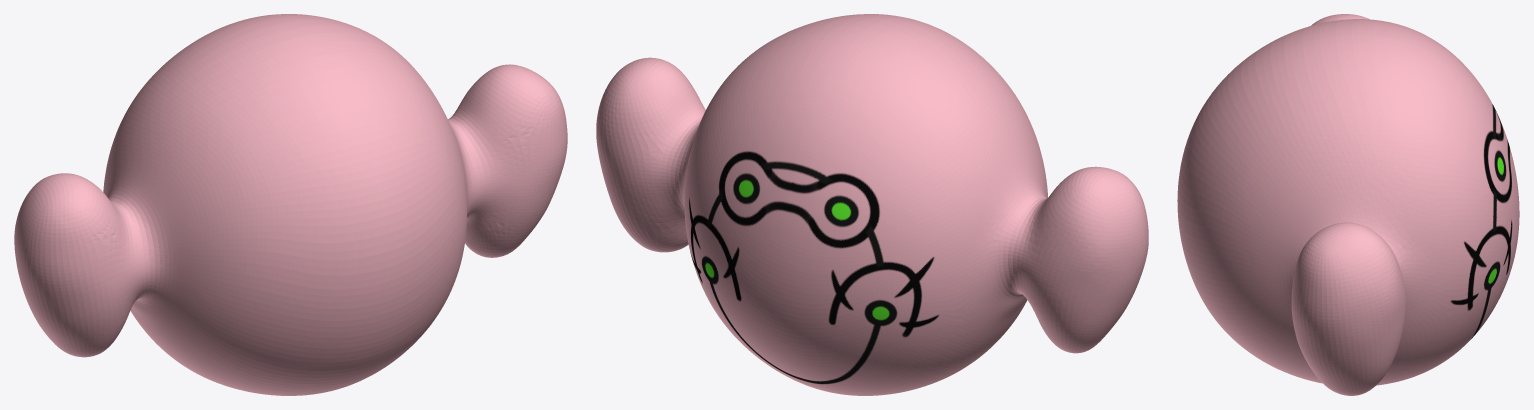
Rendered from Happy99angel.obj.
The picture shows the model from 3 angles, left to right: view 1: azimuth 30°, elevation 25°; view 2: azimuth 150°, elevation 25°; view 3: azimuth 270°, elevation 25°; orthographic projection. The views are drawn at different scales.
Parts seen in each view (by area): view 1: Group50241; view 2: Group50241; view 3: Group50241.
Part boxes in pixels (x1,y1,x2,y2): Group50241: (14,14,567,395); Group50241: (596,14,1148,395); Group50241: (1177,14,1519,395).
Size of the model in its own units: 2.94 by 1.83 by 1.69.
